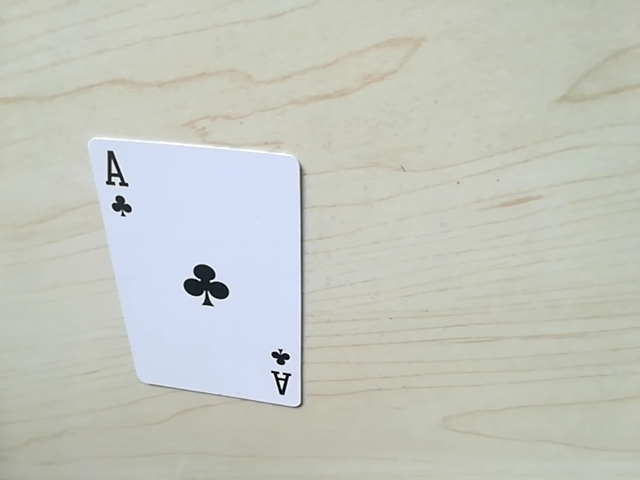mh a: (95, 148, 136, 222), (266, 339, 296, 403)
